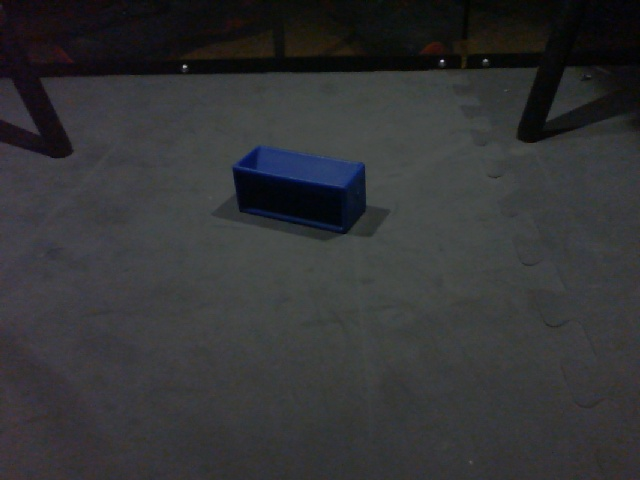BlueSample: (229, 143, 369, 237)
